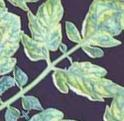Tomato leaf mosaic virus: (5, 0, 94, 72), (47, 38, 124, 121), (0, 10, 58, 89), (59, 0, 124, 68), (22, 81, 89, 121)
